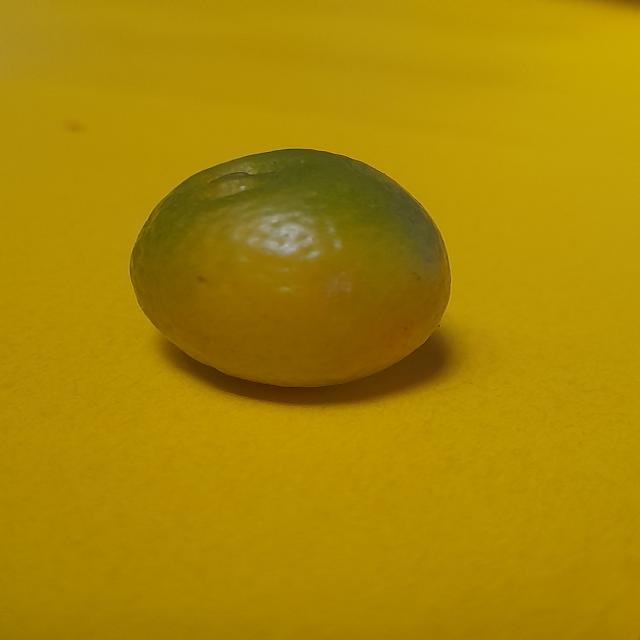greening: (118, 150, 456, 404)
